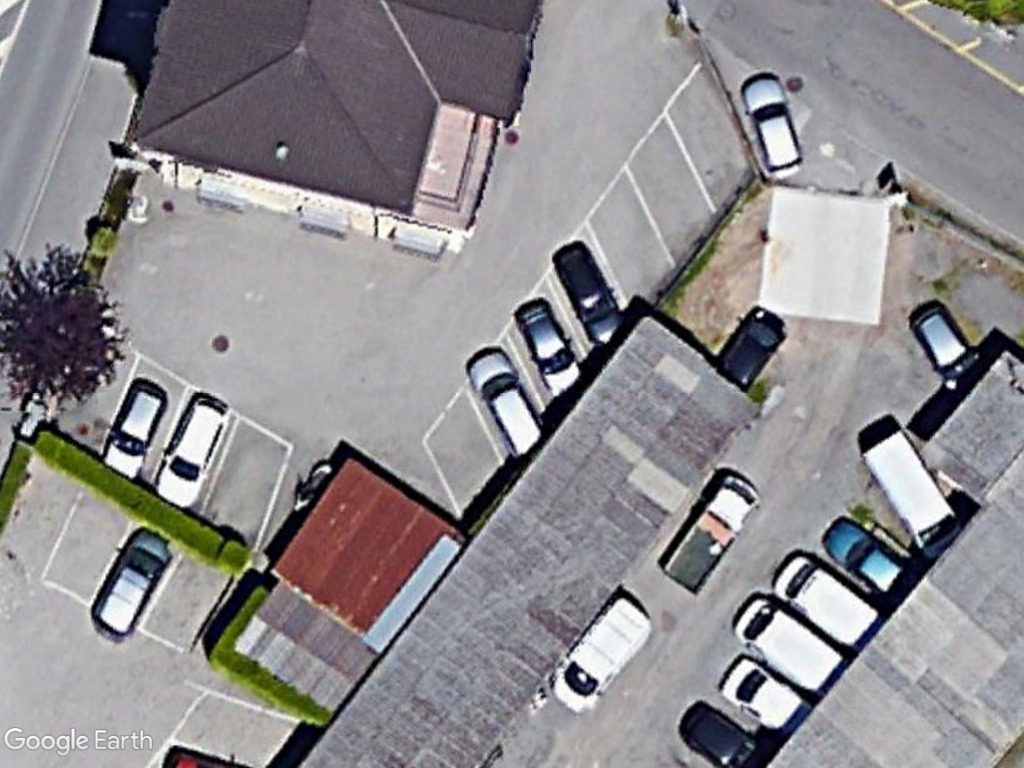car: (90, 527, 173, 645), (155, 390, 233, 508), (510, 301, 584, 402), (556, 248, 625, 348), (743, 72, 805, 180), (99, 378, 167, 476)
others: (656, 470, 763, 594)
van: (545, 591, 654, 717), (724, 596, 845, 694), (777, 549, 875, 651), (466, 342, 545, 462)
